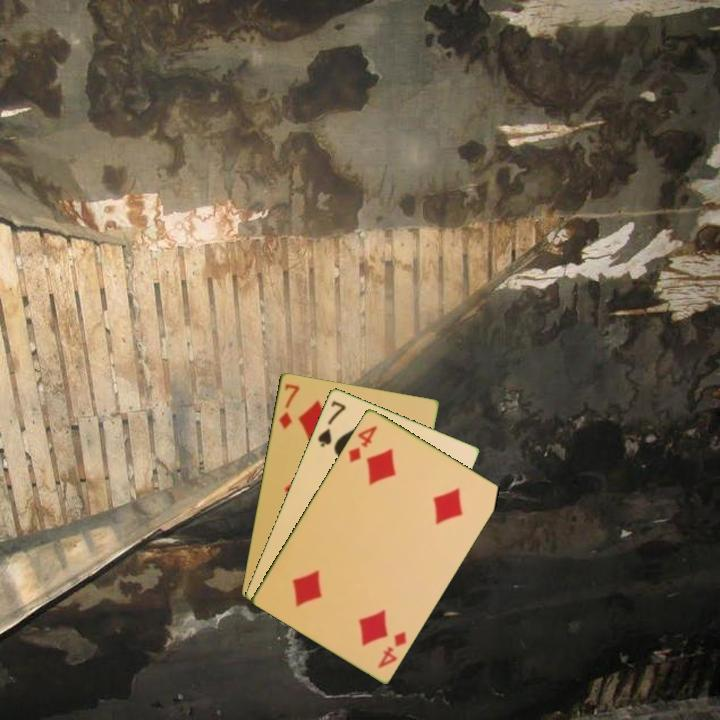4d: (374, 627, 409, 671), (345, 422, 380, 465)
7d: (275, 380, 302, 432)
7s: (314, 397, 349, 449)
